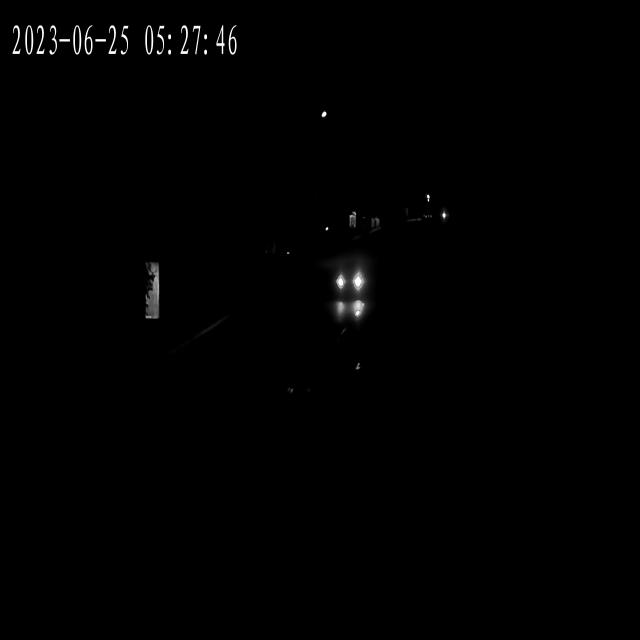Car: (336, 260, 369, 304)
